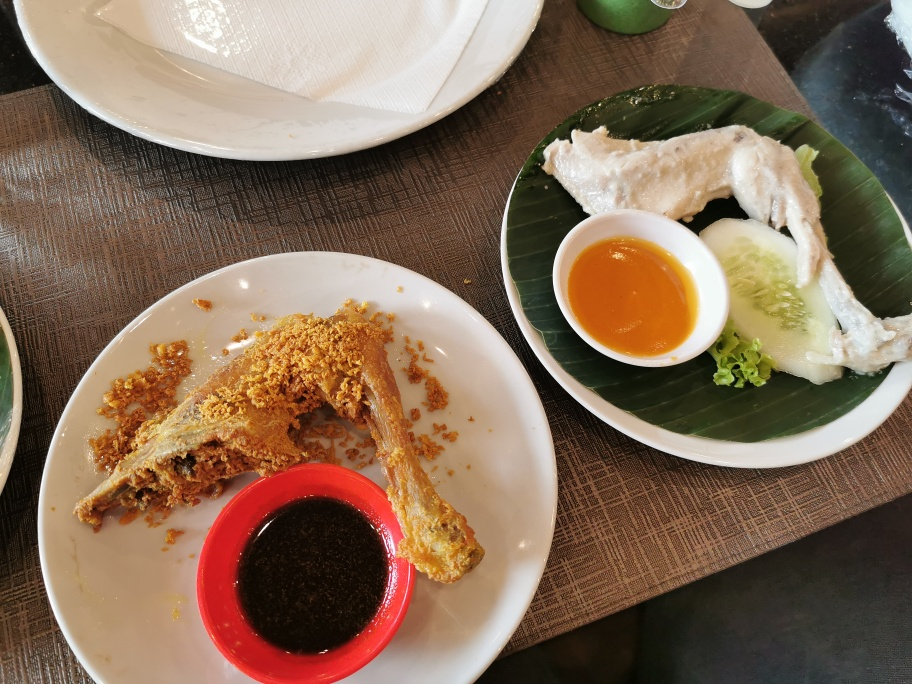ayam goreng: (70, 308, 478, 586)
ayam pop: (537, 124, 912, 364)
extra: (546, 218, 850, 388)
kecap: (193, 459, 418, 678)
